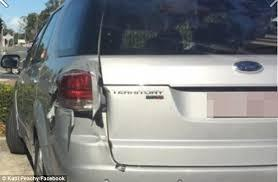Light: (54, 74, 104, 120)
